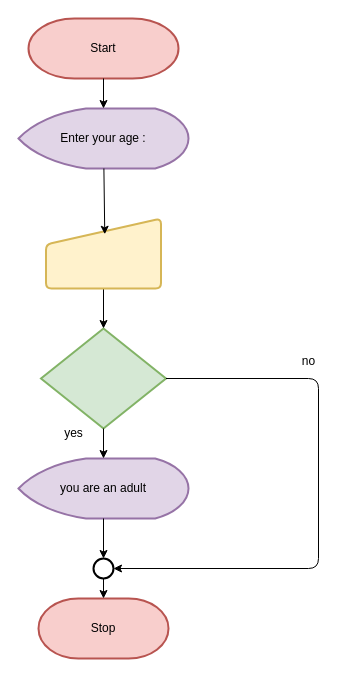
This 345x676 diagram has some shape labels left out. Each missing label, with the centre of its shape:
age >= 18: (103,378)
input age: (103,253)
